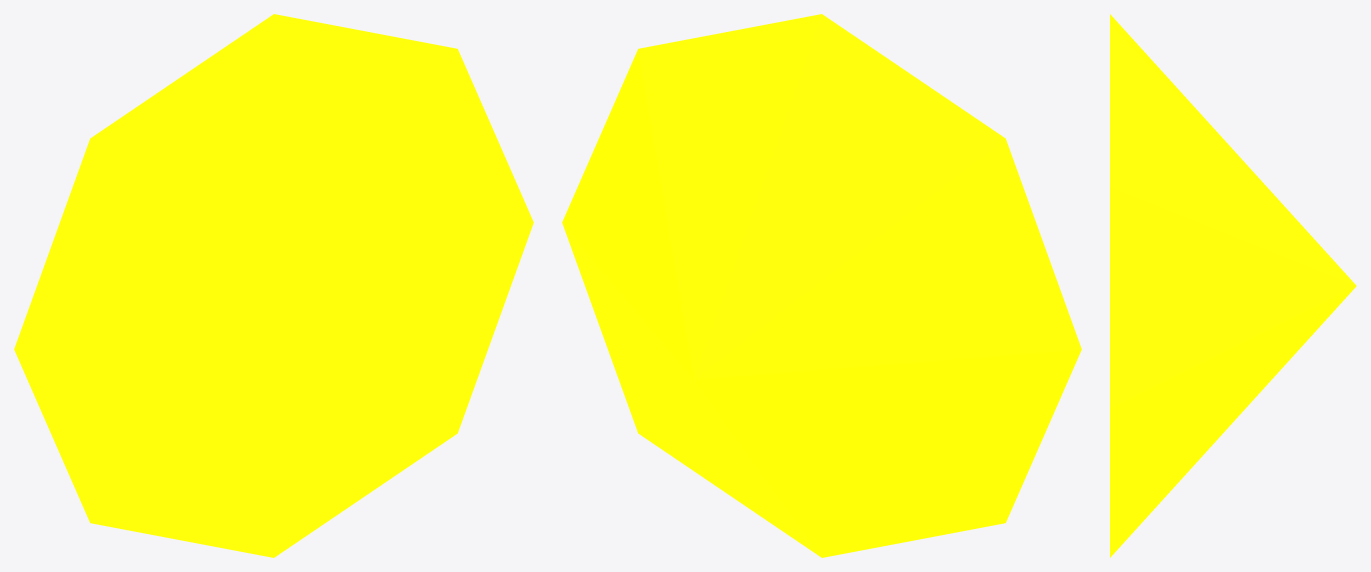
The model's file is Portal.fbx.
3 renders of one model, left to right at view 1: azimuth 30°, elevation 25°; view 2: azimuth 150°, elevation 25°; view 3: azimuth 270°, elevation 25°, orthographic. The views are drawn at different scales.
Visible parts, largest first — view 1: Cylinder; view 2: Cylinder; view 3: Cylinder.
Part boxes in pixels (left/top/right/bottom): Cylinder: left=14, top=14, right=533, bottom=557; Cylinder: left=562, top=14, right=1081, bottom=557; Cylinder: left=1110, top=14, right=1356, bottom=557.
Bounding box in the file's own units: 44.26 × 44.26 × 18.86.
